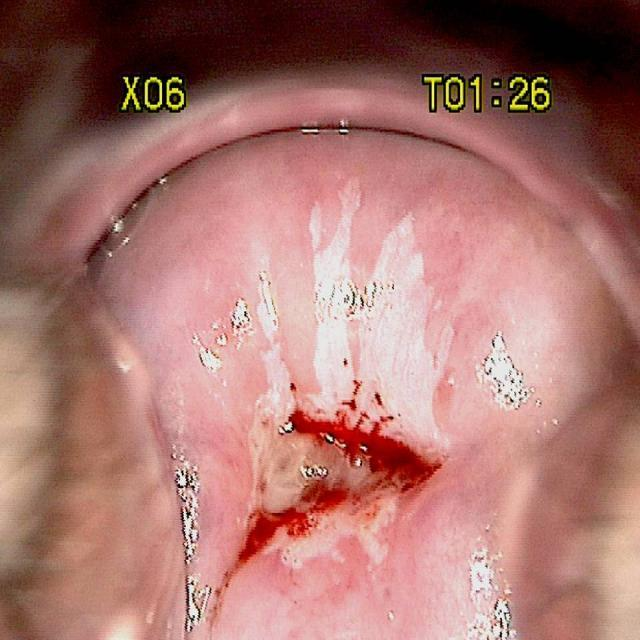cervical_lesion: (123, 139, 595, 640)
